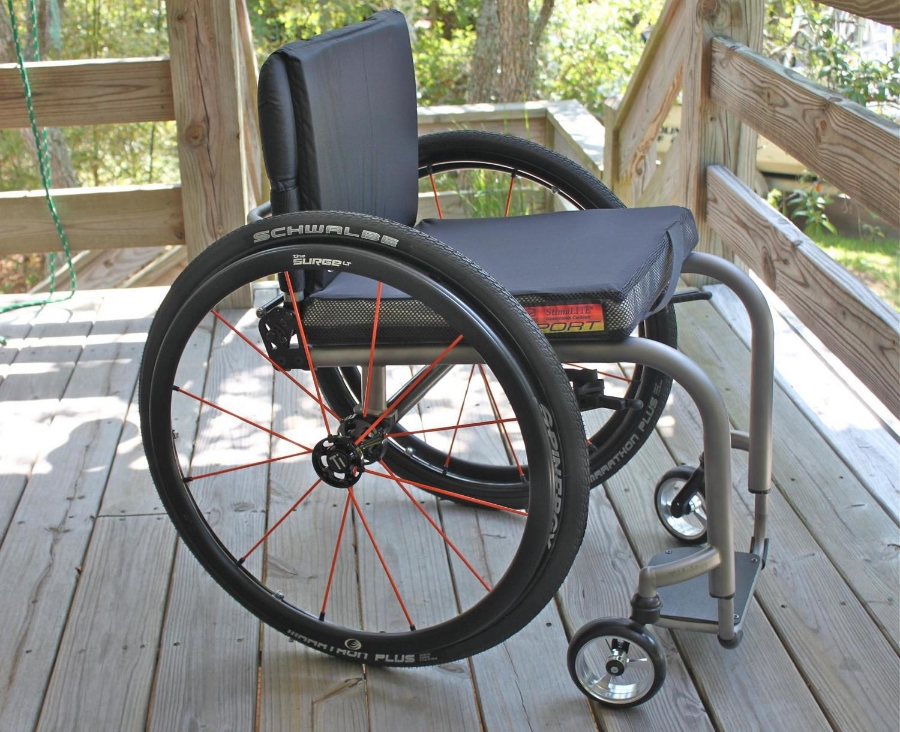wheelchair: (122, 16, 784, 723)
